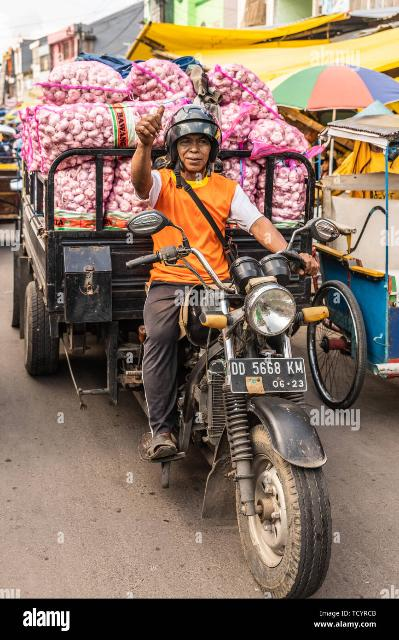helm: (164, 104, 224, 173)
motor: (128, 205, 350, 589)
